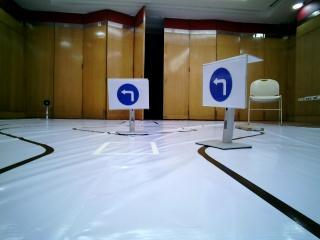left: (199, 61, 251, 108), (109, 81, 147, 111)
